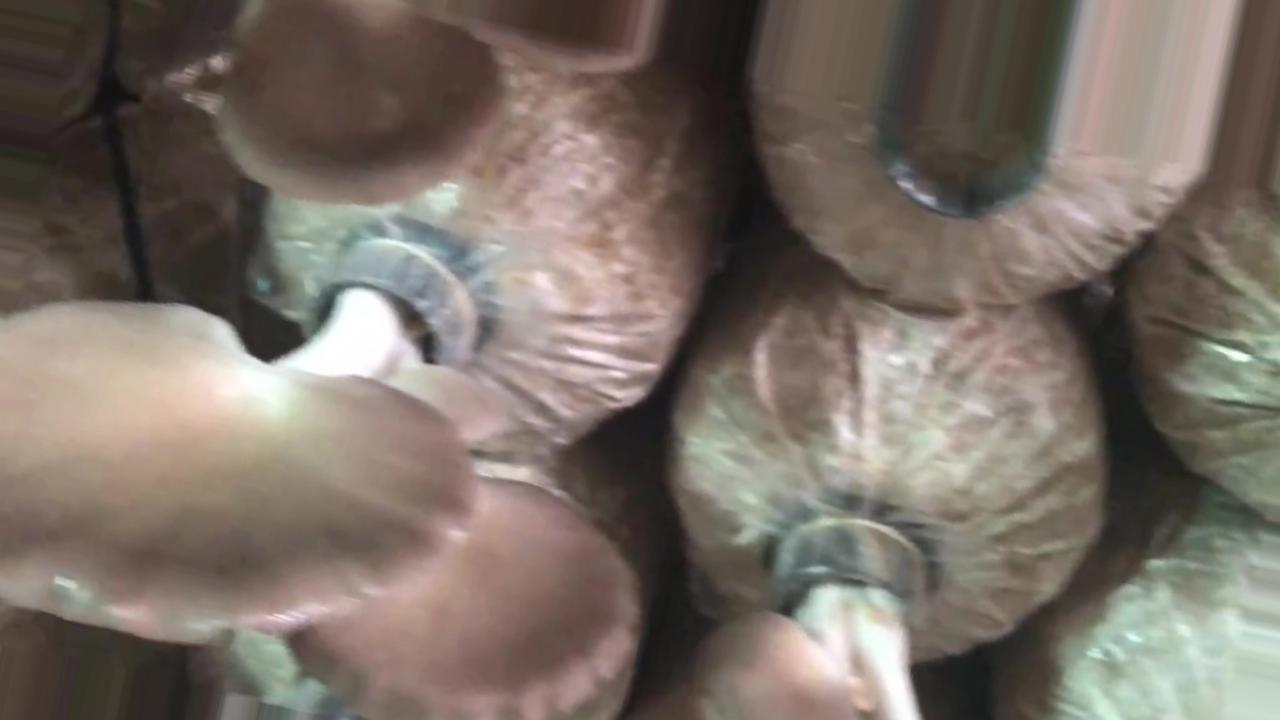nam: (1, 227, 485, 647), (278, 478, 645, 720), (216, 6, 509, 205), (702, 513, 931, 720)
